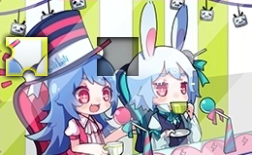gap: (97, 37, 138, 75)
